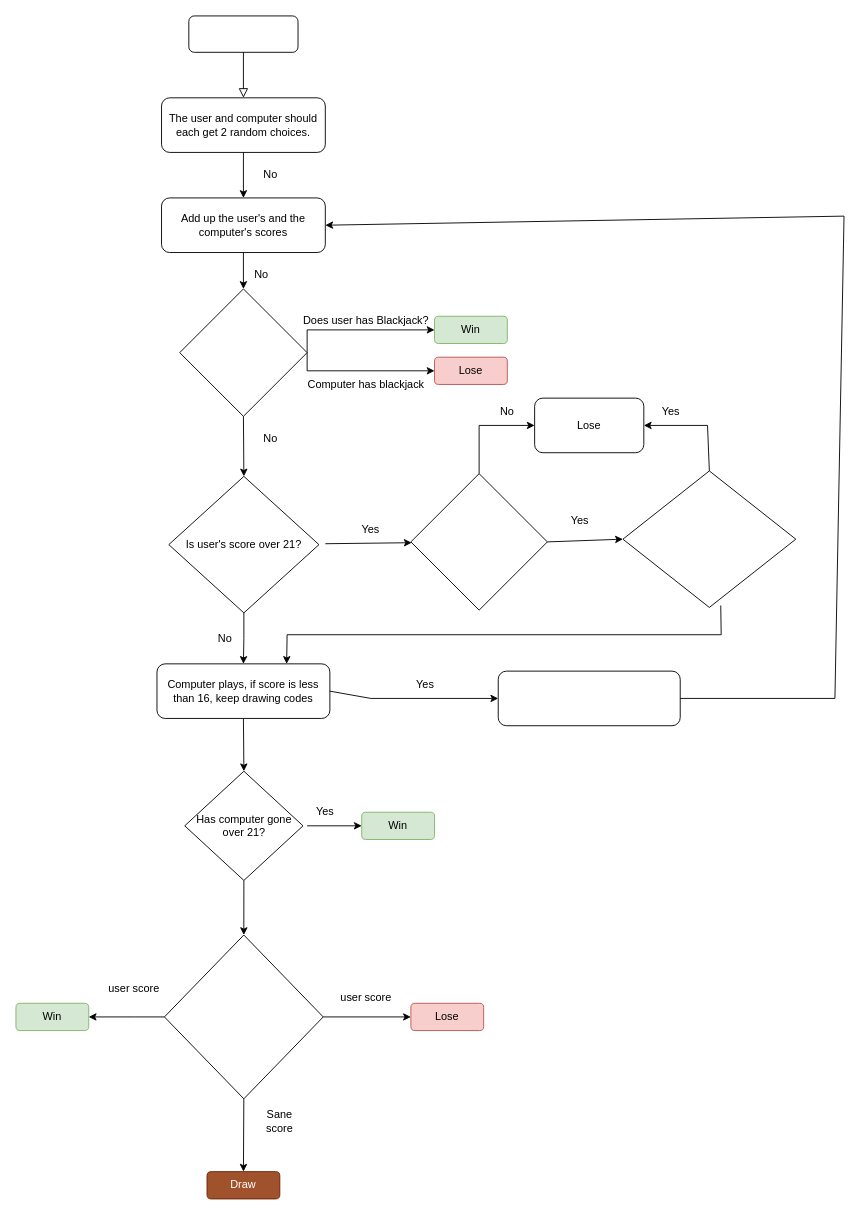
Some shapes in this 867 by 1215 pixel diagram are drawn without their labels. The shapes that lost their labels are listed below. From the top down, each one's box as (x1, y1, x2, y2) in pixels, then its label:
(188, 15, 298, 52): Start
(179, 288, 307, 416): Does the user or computer have a blackjack?
(410, 473, 547, 610): Do they have an ACE?
(622, 470, 796, 607): If the Ace counts as a 1 instead of 11, are thry over 21?
(497, 670, 680, 726): Draw another card
(164, 934, 323, 1099): compare user score with computer score to see if user score is higher
